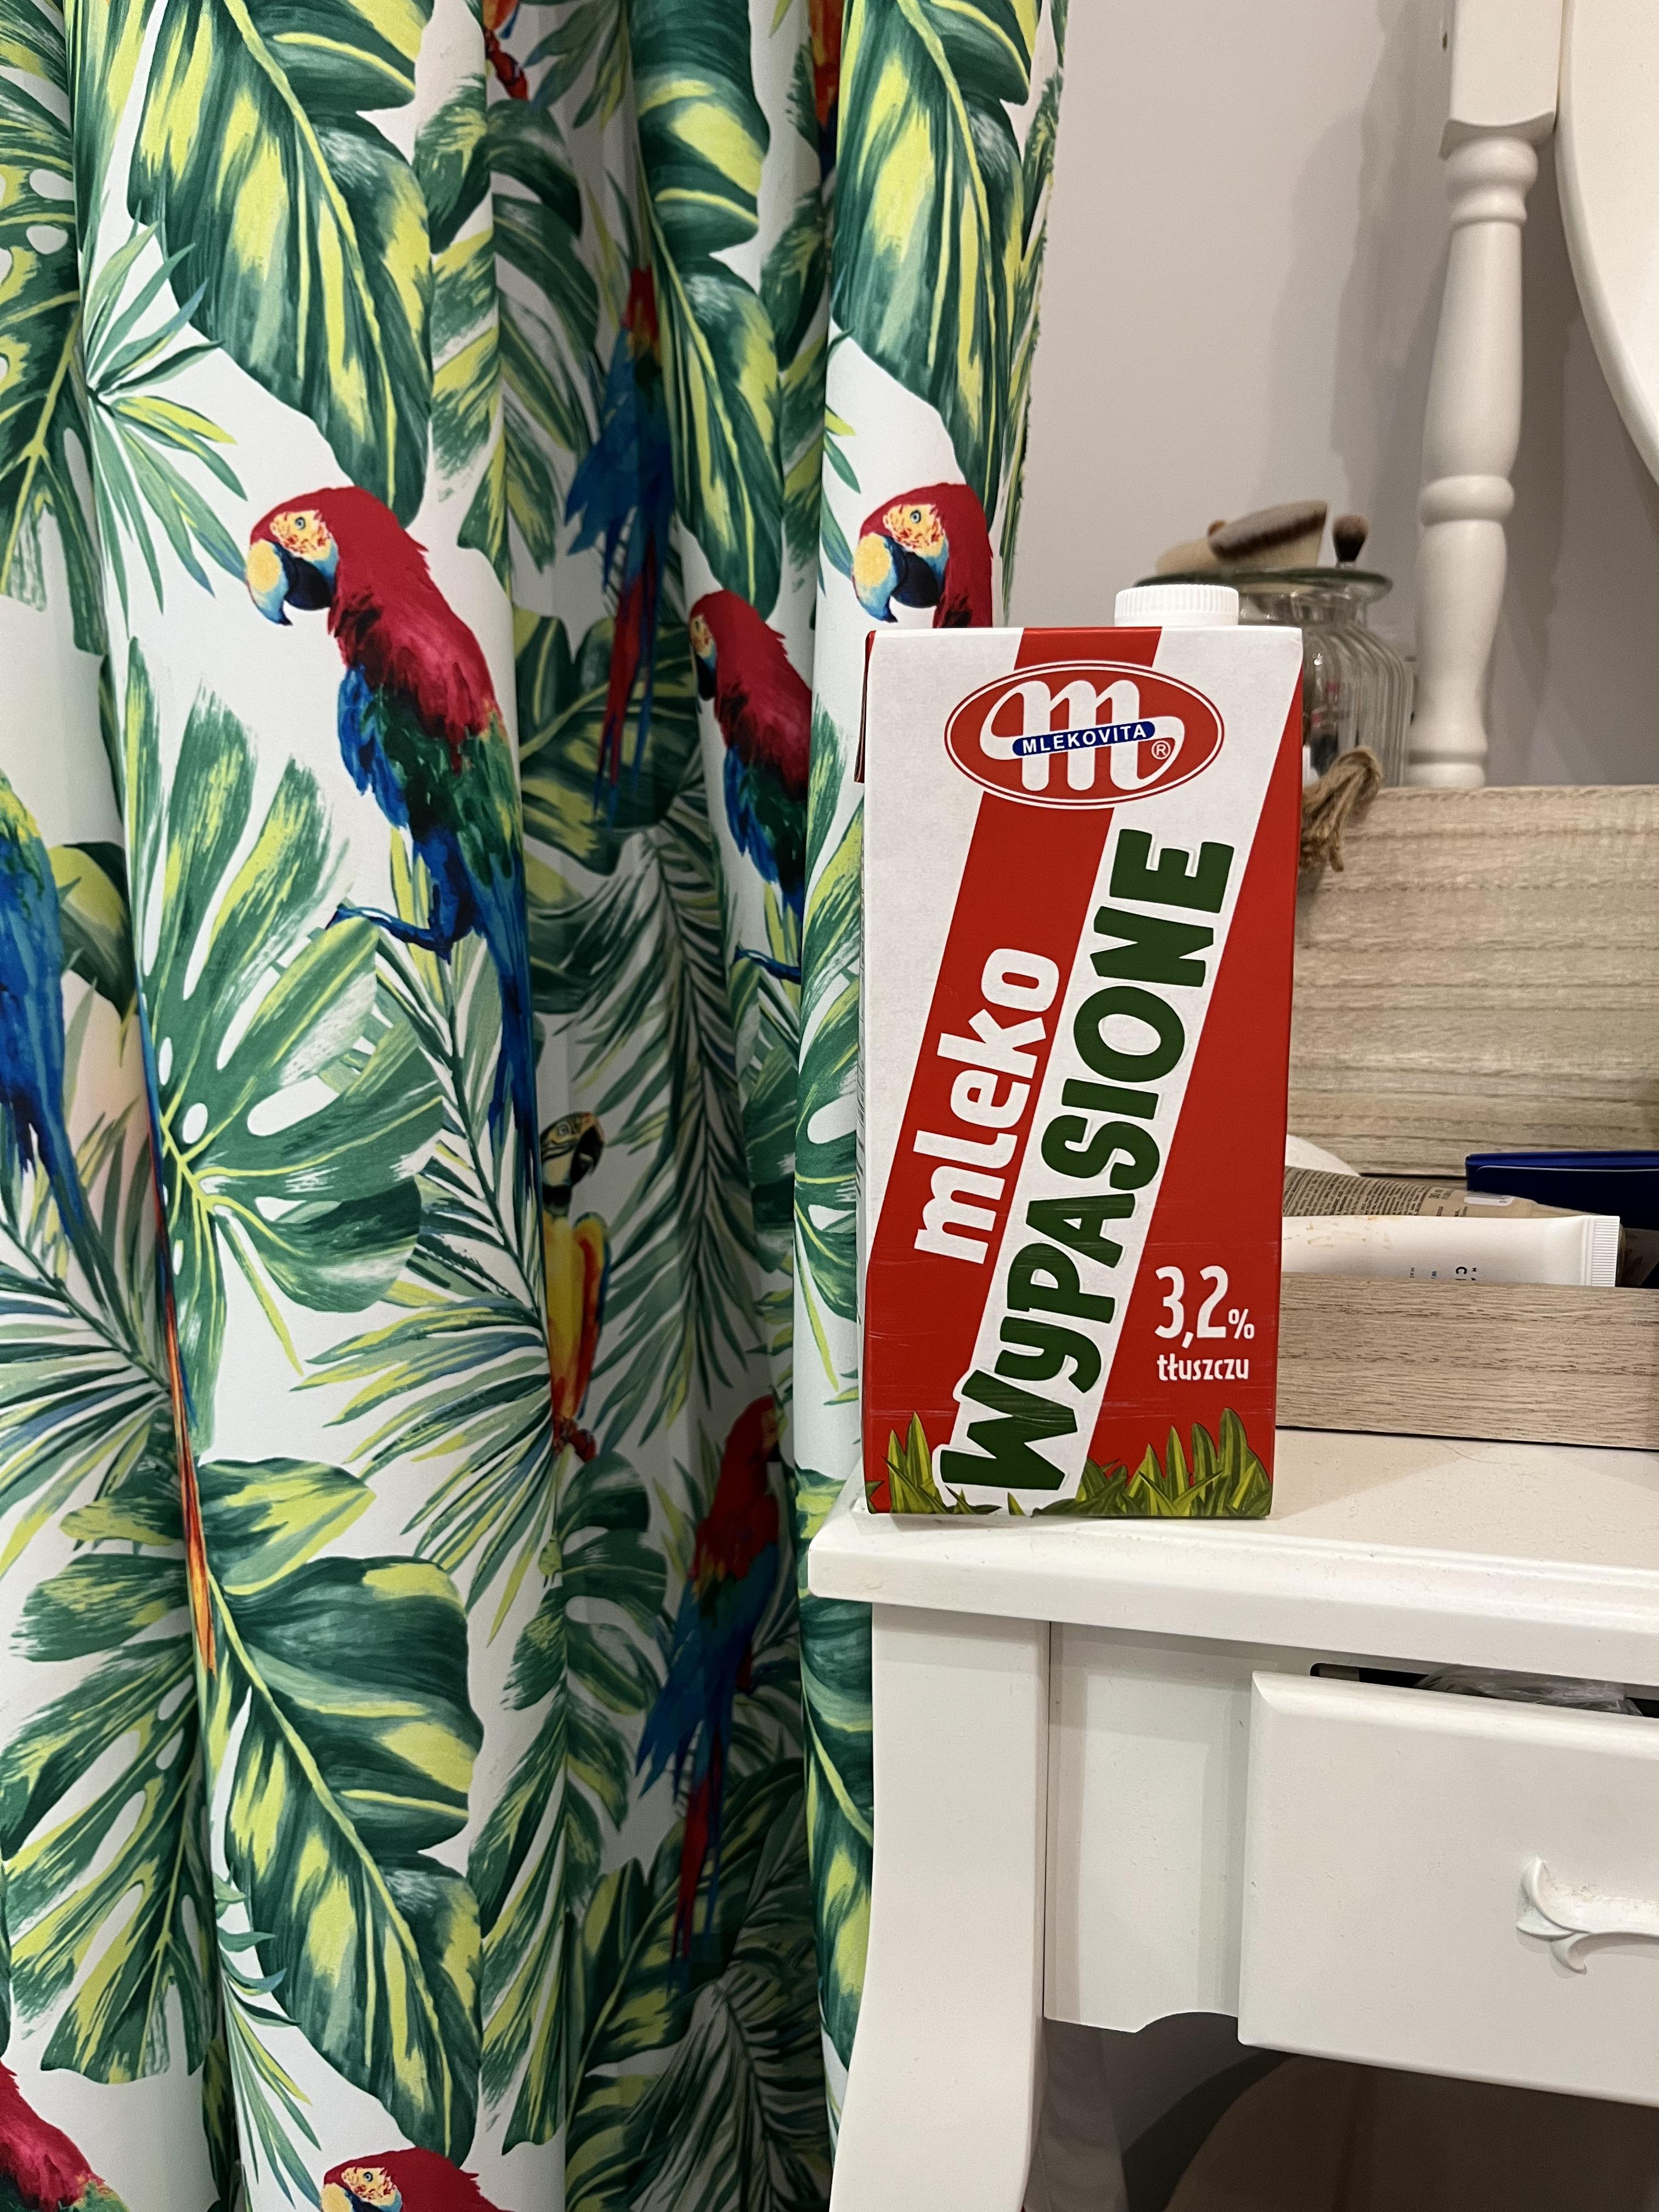Milk: (857, 624, 1286, 1533)
